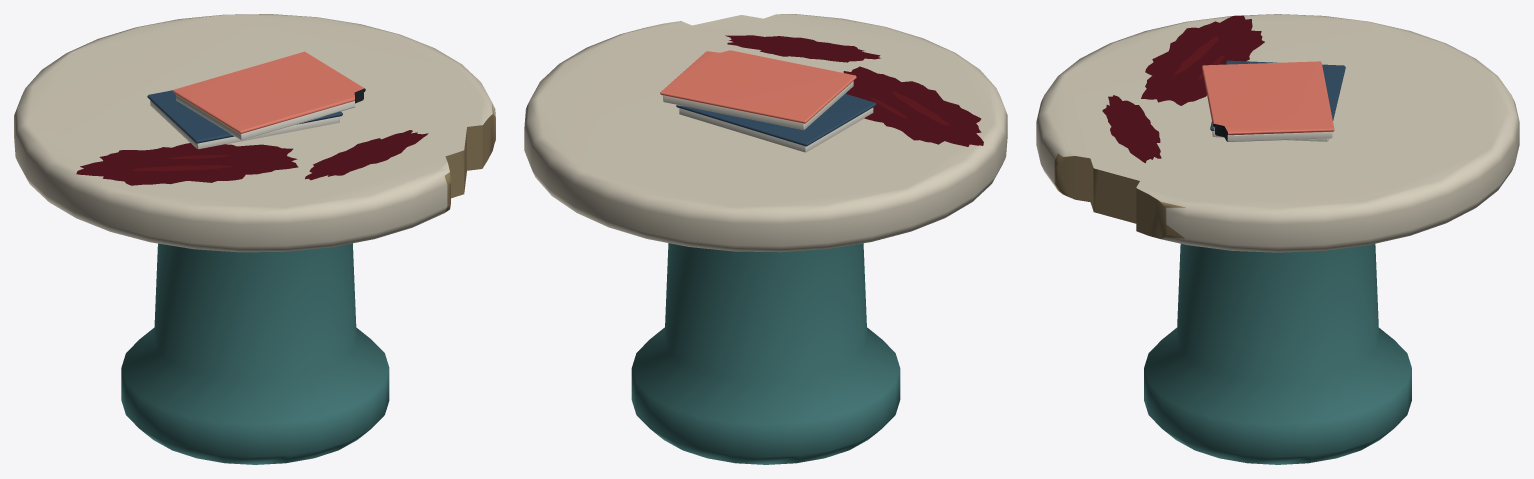
File: side_table.glb
3 views of the same model, side by side, from view 1: azimuth 30°, elevation 25°; view 2: azimuth 150°, elevation 25°; view 3: azimuth 270°, elevation 25° (orthographic).
Parts seen in each view (by area): view 1: side_table_Outbreak_Static; view 2: side_table_Outbreak_Static; view 3: side_table_Outbreak_Static.
Boxes of the visible parts, x1,y1,x2,y2 form: side_table_Outbreak_Static: (14, 14, 495, 464); side_table_Outbreak_Static: (524, 14, 1007, 464); side_table_Outbreak_Static: (1036, 14, 1519, 464).
Bounding box in the file's own units: 0.74 × 0.548 × 0.74.
Materials: 9 (1 with a texture image).
